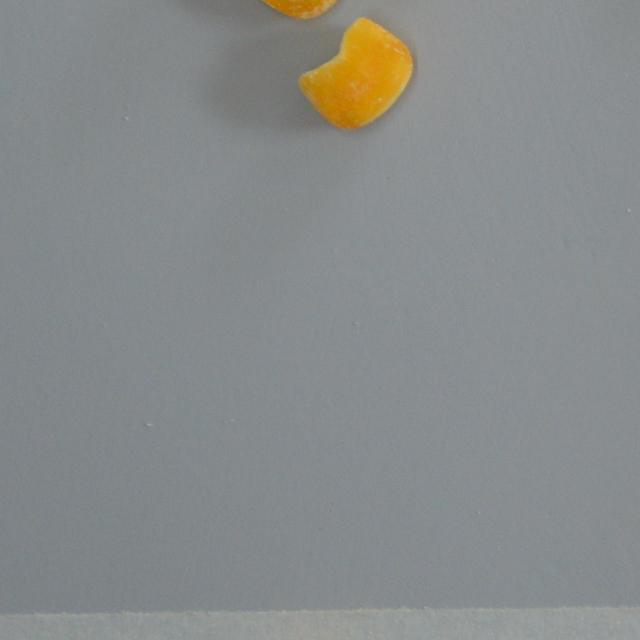dañado: (294, 12, 418, 138), (238, 0, 361, 24)
